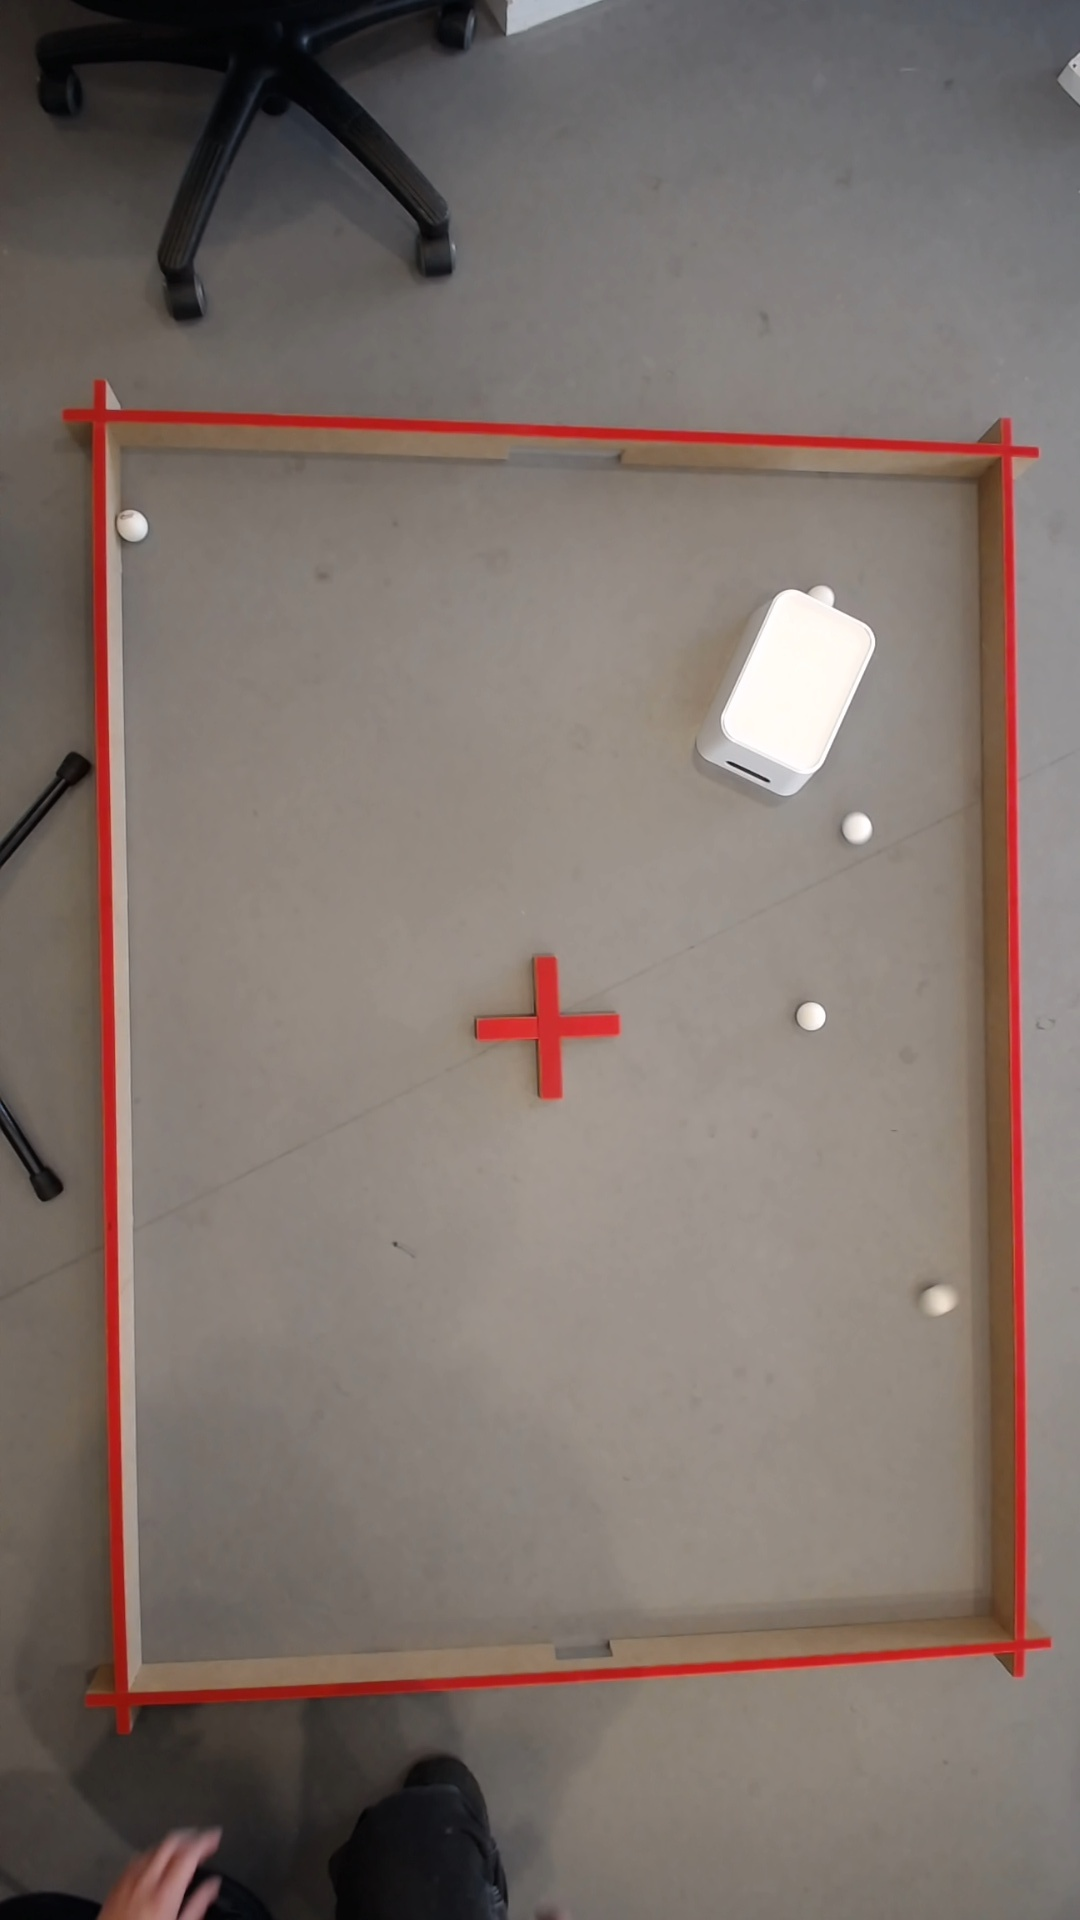balls: (841, 810, 876, 844), (123, 510, 153, 541), (804, 1002, 825, 1030)
car: (928, 1288, 953, 1315)
